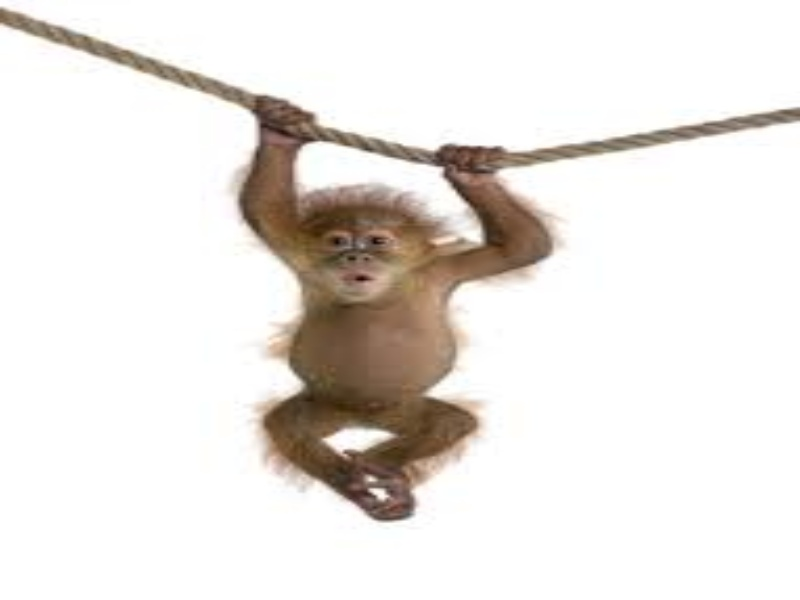monkey: (202, 80, 600, 542)
